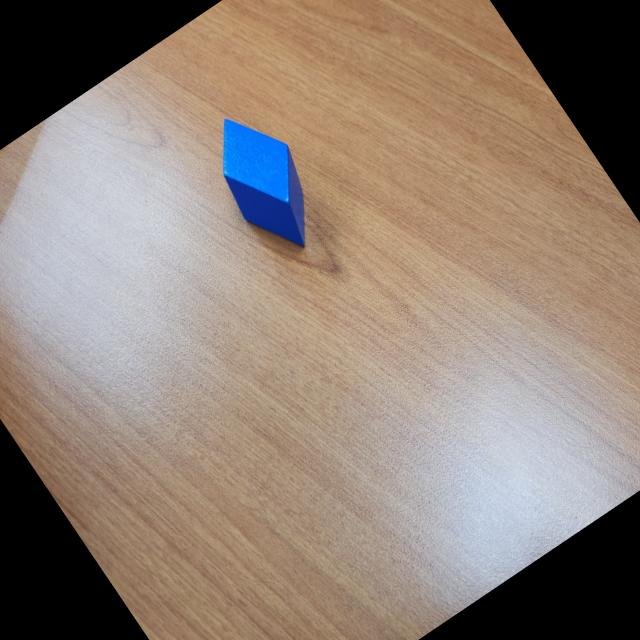blue: (192, 97, 342, 267)
